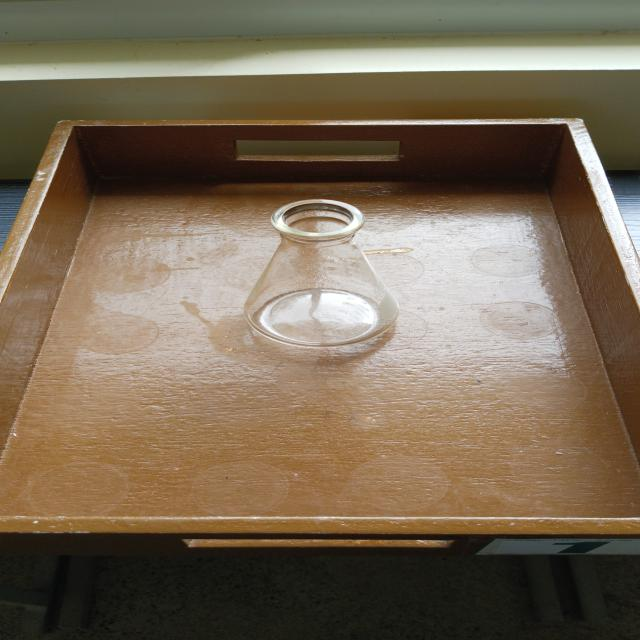erlenmeyer_flask: (233, 195, 410, 351)
